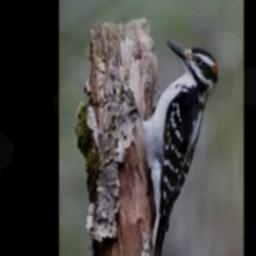Woodpecker: (141, 40, 218, 256)
